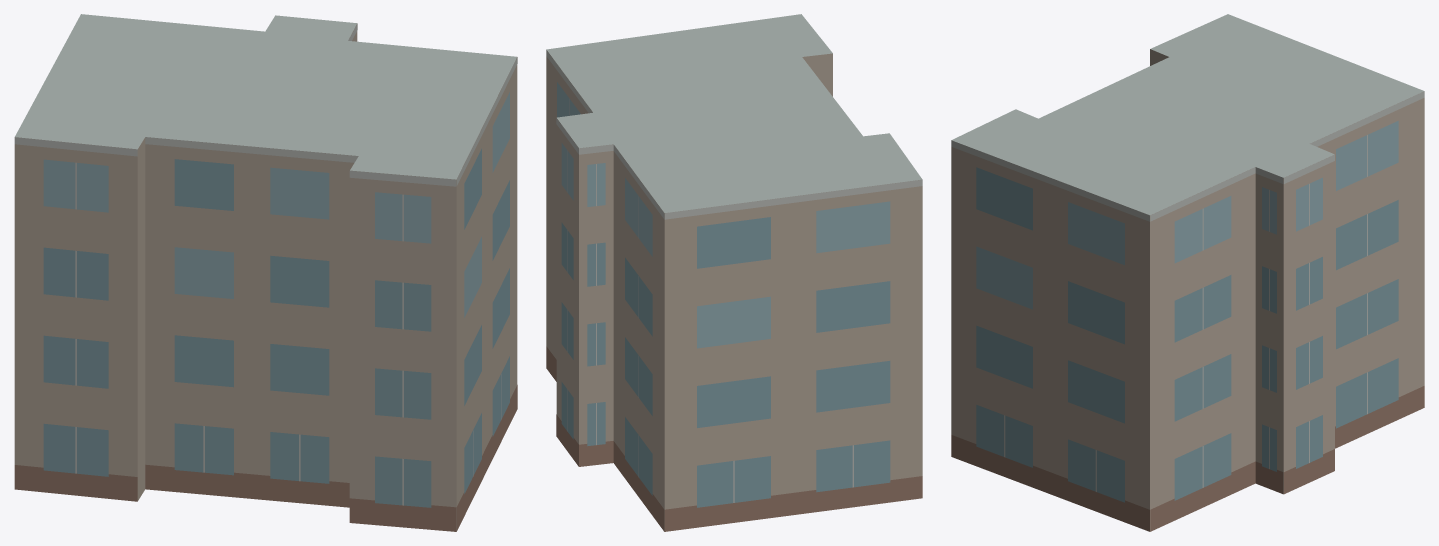
Rendered from survey-upis-32732610.glb.
3 views of the same model, side by side, from view 1: azimuth 30°, elevation 25°; view 2: azimuth 150°, elevation 25°; view 3: azimuth 270°, elevation 25° (orthographic). The views are drawn at different scales.
Parts seen in each view (by area): view 1: survey-upis-32732610.tmp; view 2: survey-upis-32732610.tmp; view 3: survey-upis-32732610.tmp.
Part boxes in pixels (x1,y1,x2,y2): survey-upis-32732610.tmp: (14,14,517,531); survey-upis-32732610.tmp: (546,14,922,531); survey-upis-32732610.tmp: (951,14,1424,531).
Bounding box in the file's own units: 16.3 × 11.94 × 16.2.
